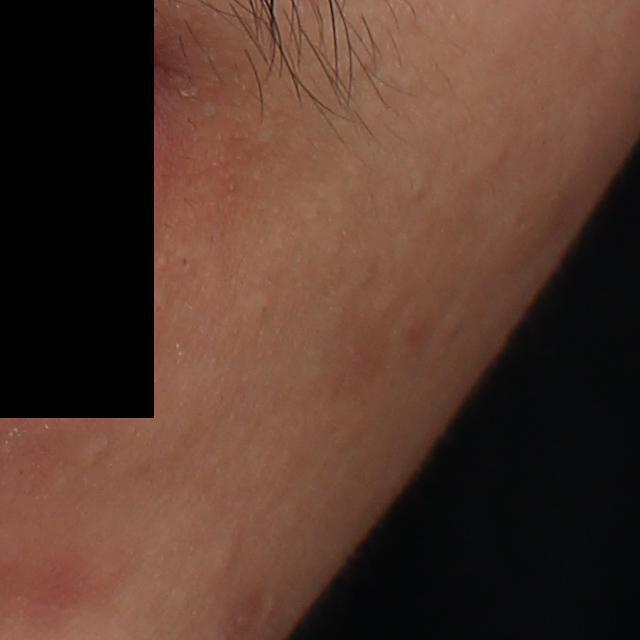comedo: (81, 437, 110, 466)
